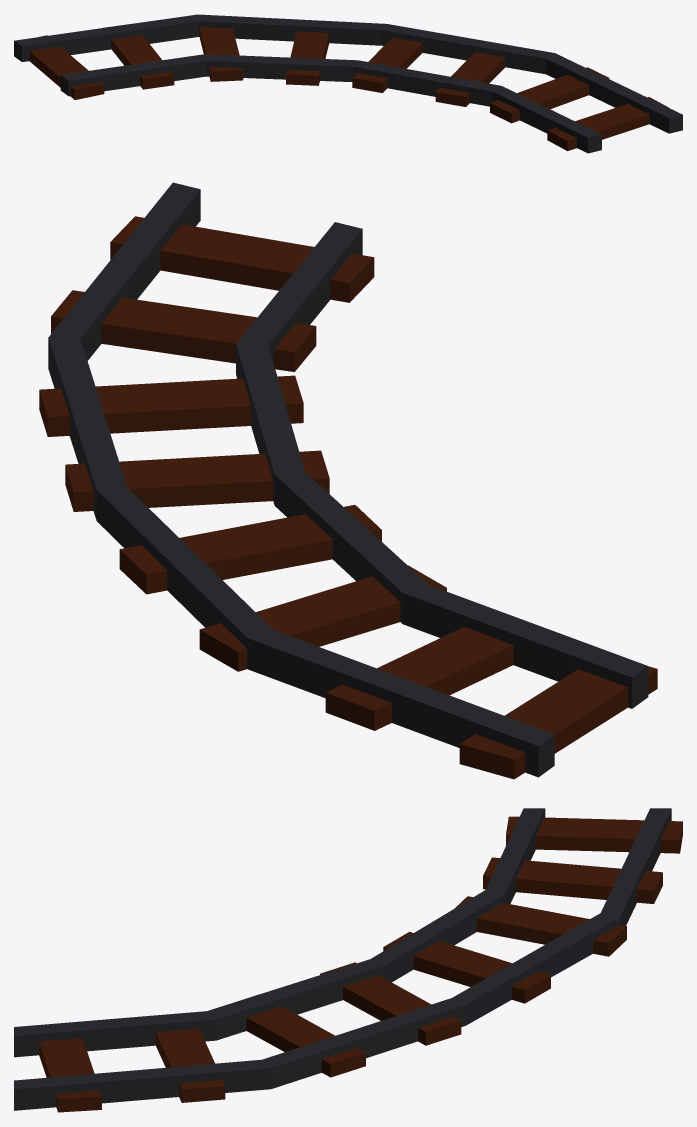
Rendered from Turning_train_tracks.FBX.
The picture shows the model from 3 angles, top to bottom: view 1: azimuth 30°, elevation 25°; view 2: azimuth 150°, elevation 25°; view 3: azimuth 270°, elevation 25°; orthographic projection. The views are drawn at different scales.
Parts seen in each view (by area): view 1: Cylinder002, turning_tracks; view 2: turning_tracks, Cylinder002; view 3: Cylinder002, turning_tracks.
Boxes of the visible parts, box(x1,y1,x2,y2) form: Cylinder002: box(14, 14, 682, 153); turning_tracks: box(29, 24, 668, 151); turning_tracks: box(39, 216, 657, 779); Cylinder002: box(48, 182, 648, 777); Cylinder002: box(14, 808, 671, 1110); turning_tracks: box(39, 816, 682, 1112).
Size of the model in its own units: 81.05 by 2.83 by 80.99.
